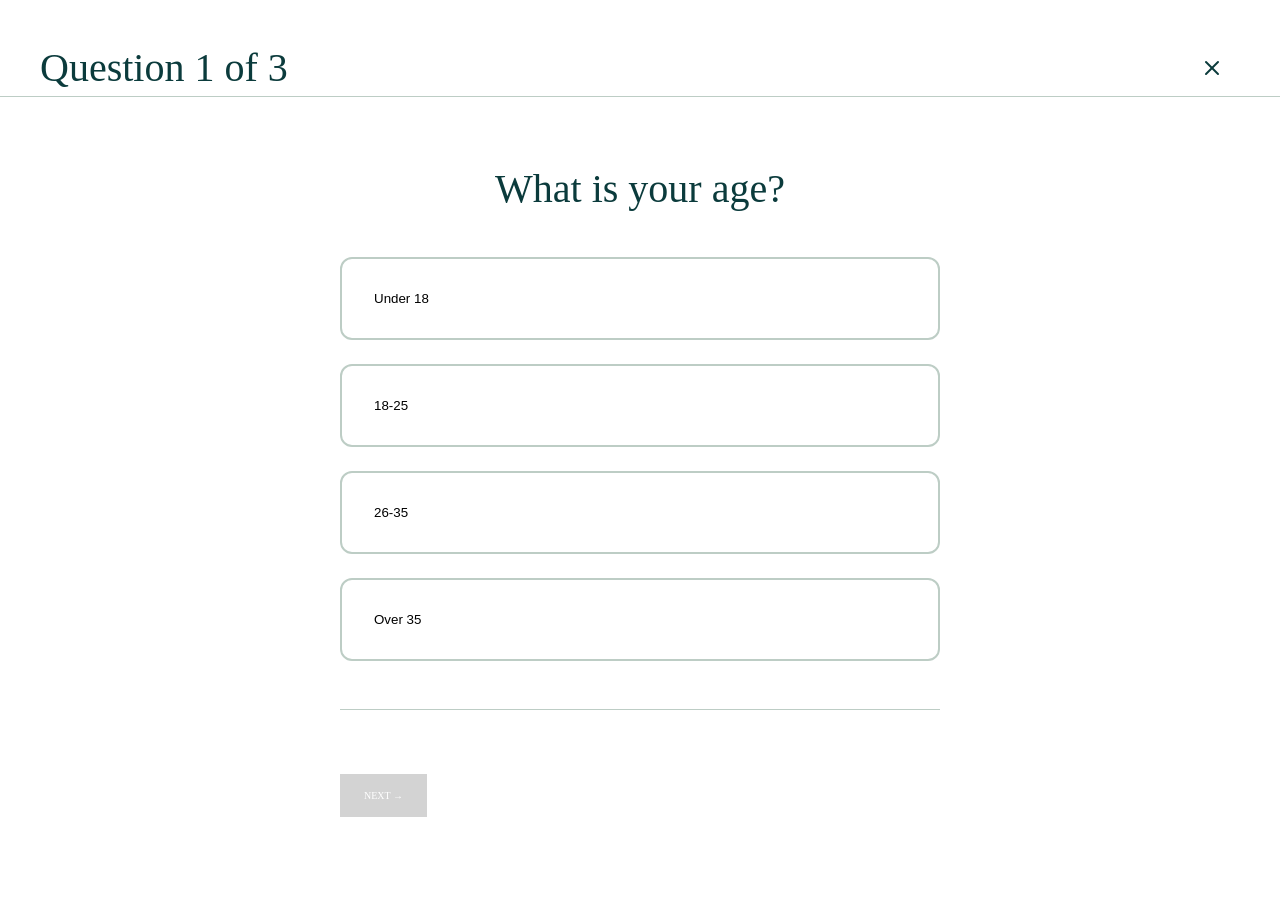
Test case: QuestionaireModal › Question Navigation - Happy Path › allows going back to previous question
Expected: the heading "What is your age?" is shown, [495, 166, 785, 211]
Click the button "18-25" at (391, 406), box [340, 364, 940, 447]
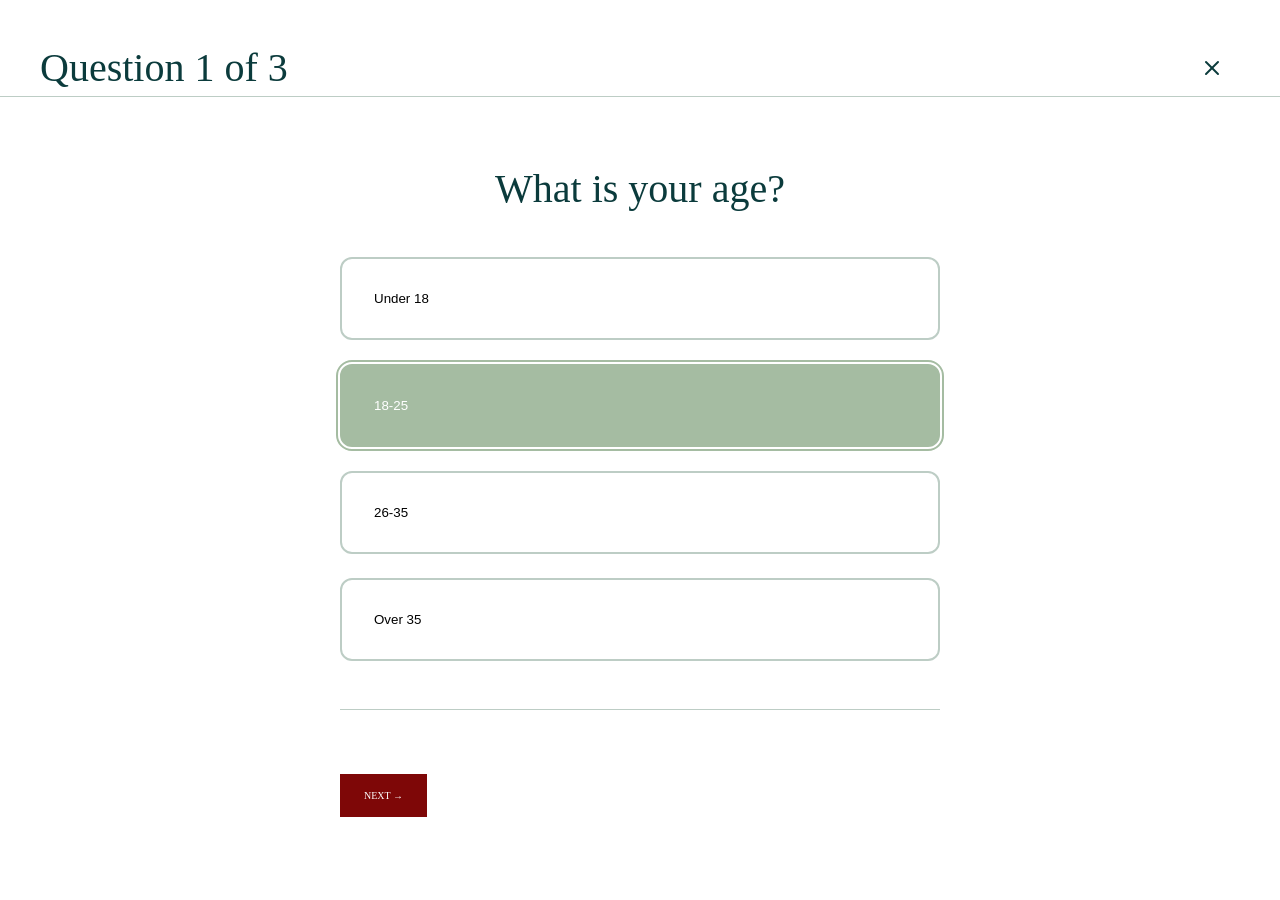
Click the button "Next →" at (384, 796), box [340, 774, 427, 817]
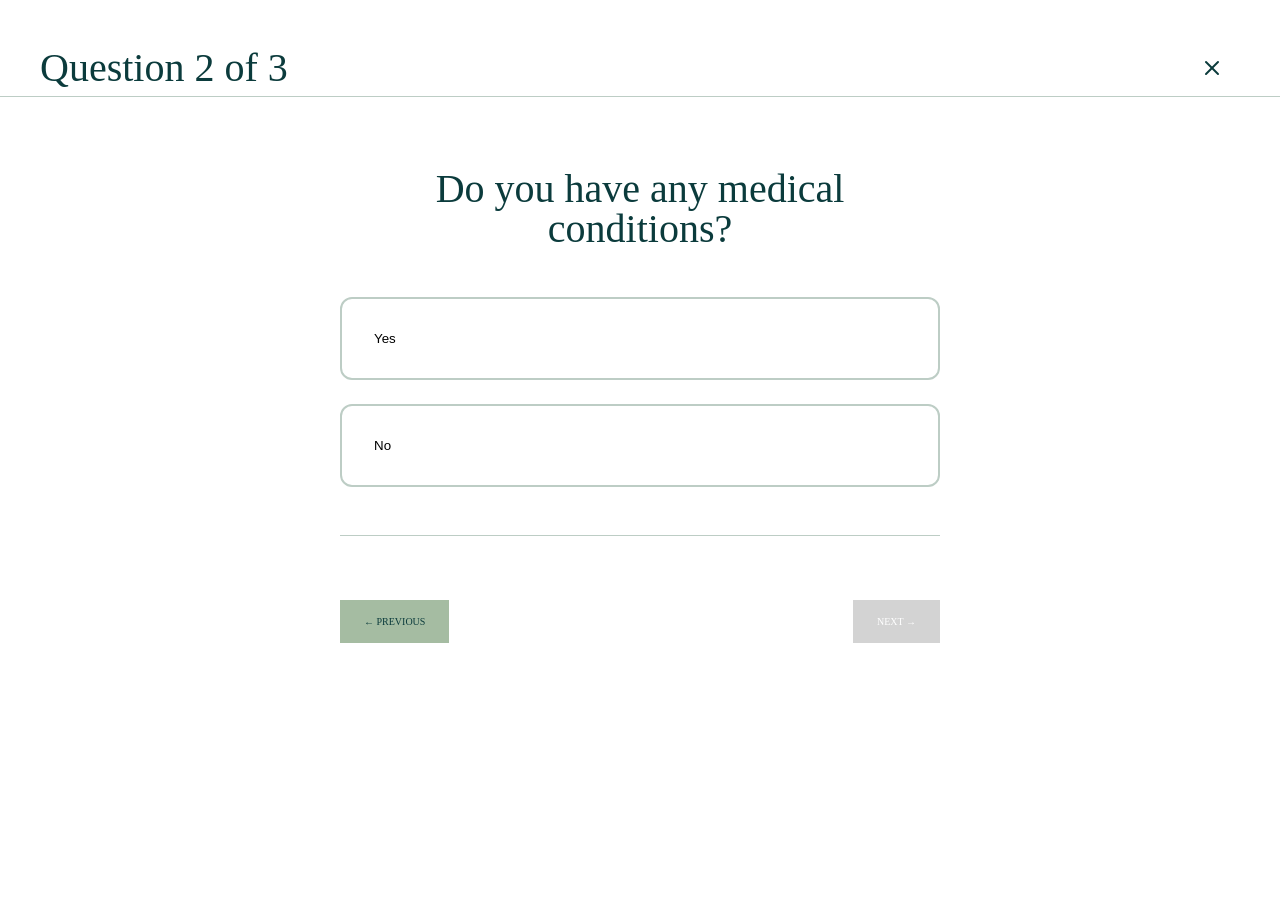
Click the button "← Previous" at (395, 622), box [340, 600, 449, 643]
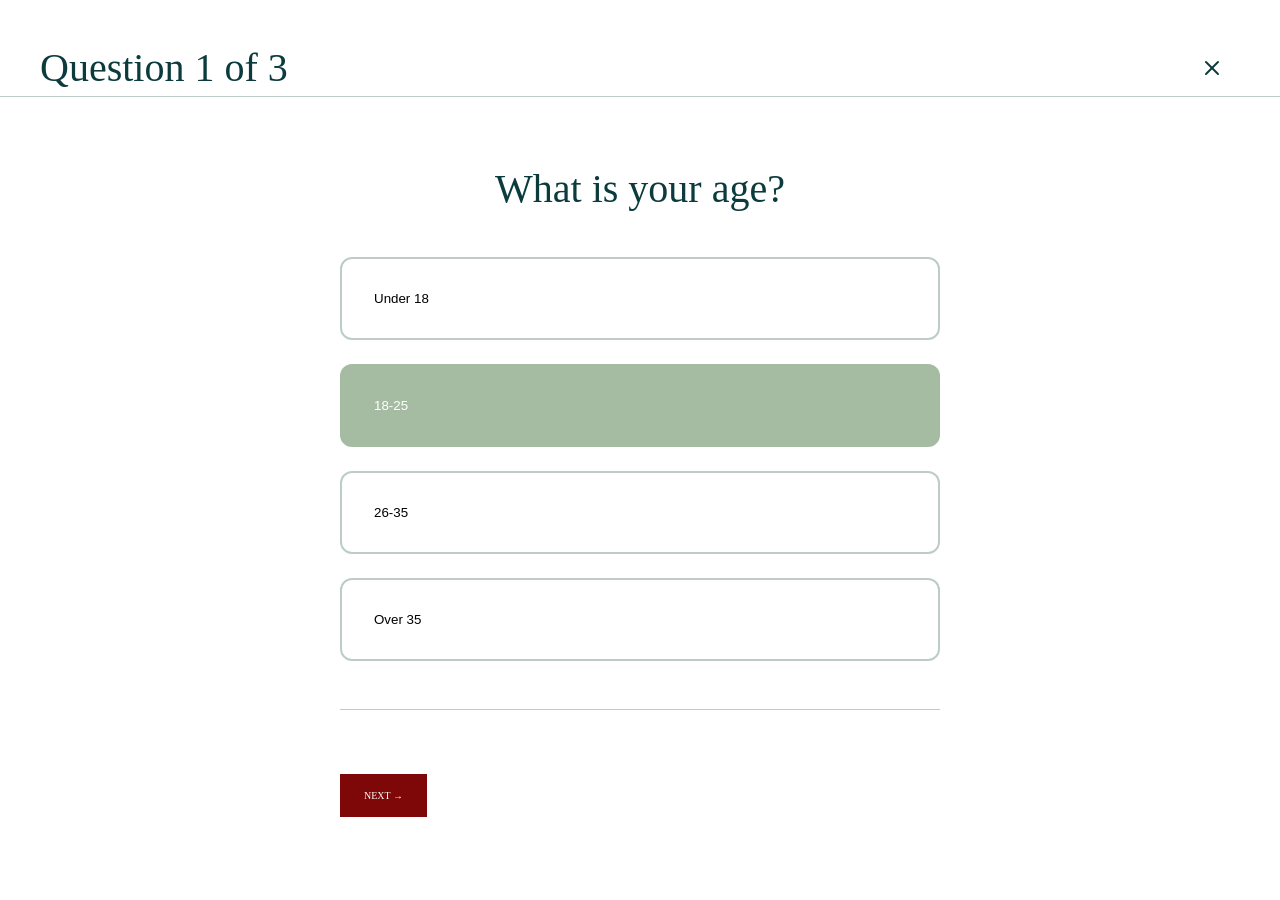
Now the heading "Question 1 of 3" is shown, box [40, 48, 288, 88]
Now the heading "What is your age?" is shown, box [495, 166, 785, 211]
